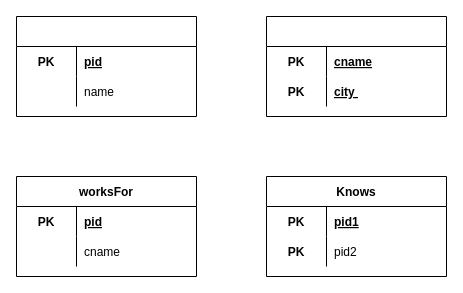
Some shapes in this 463 by 293 pixel diagram are drawn without their labels. The shapes that lost their labels are listed below. From the top down, each one's box as (x1, y1, x2, y2) in pixels, then its label:
(16, 16, 196, 116): Person
(266, 16, 446, 116): Company
